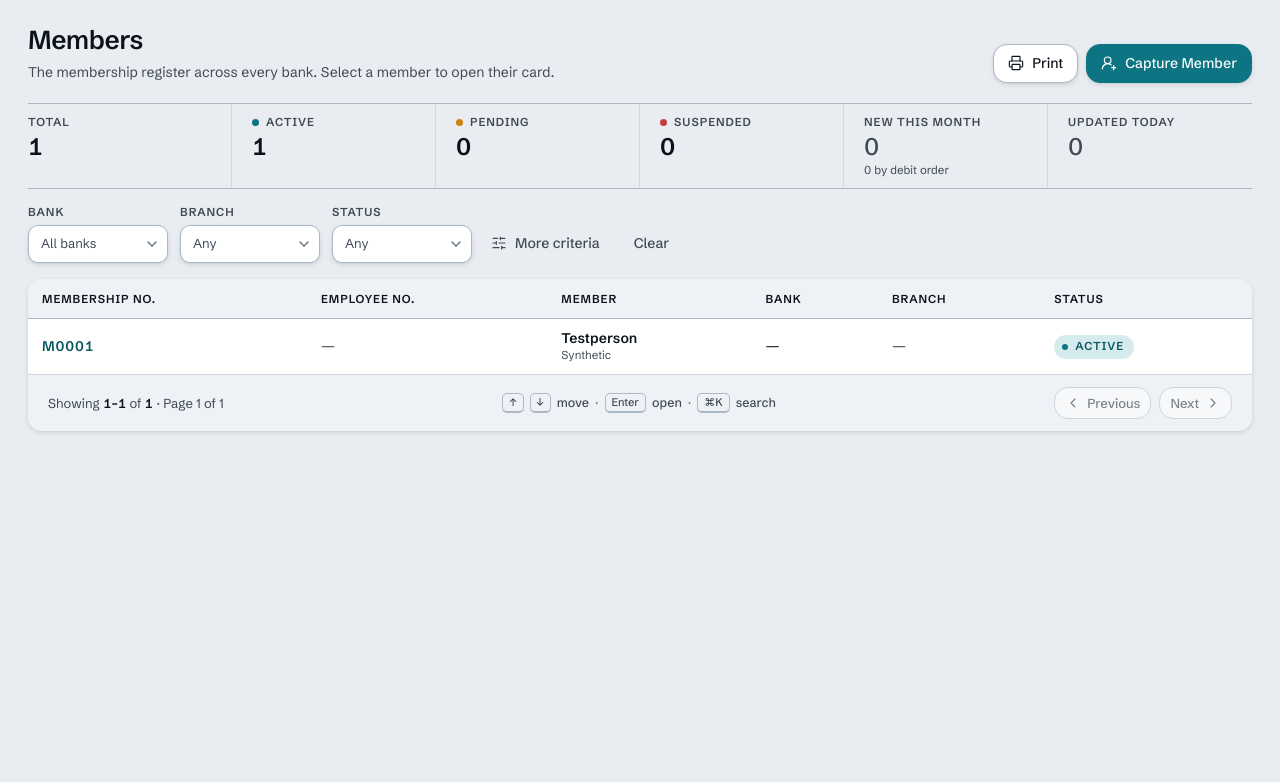
it: reading: one column, and an unanswered question says so › a member saved before V29 reads "Not recorded", not "No" -- nobody was ever asked
The width and height of the screenshot is (1280, 782).
What coordinates should you click on to do the following:
click the button named "open the record for"
I would click on:
 (68, 346)
Its box is top-left (42, 336), bottom-right (94, 357).
(page scrolled)
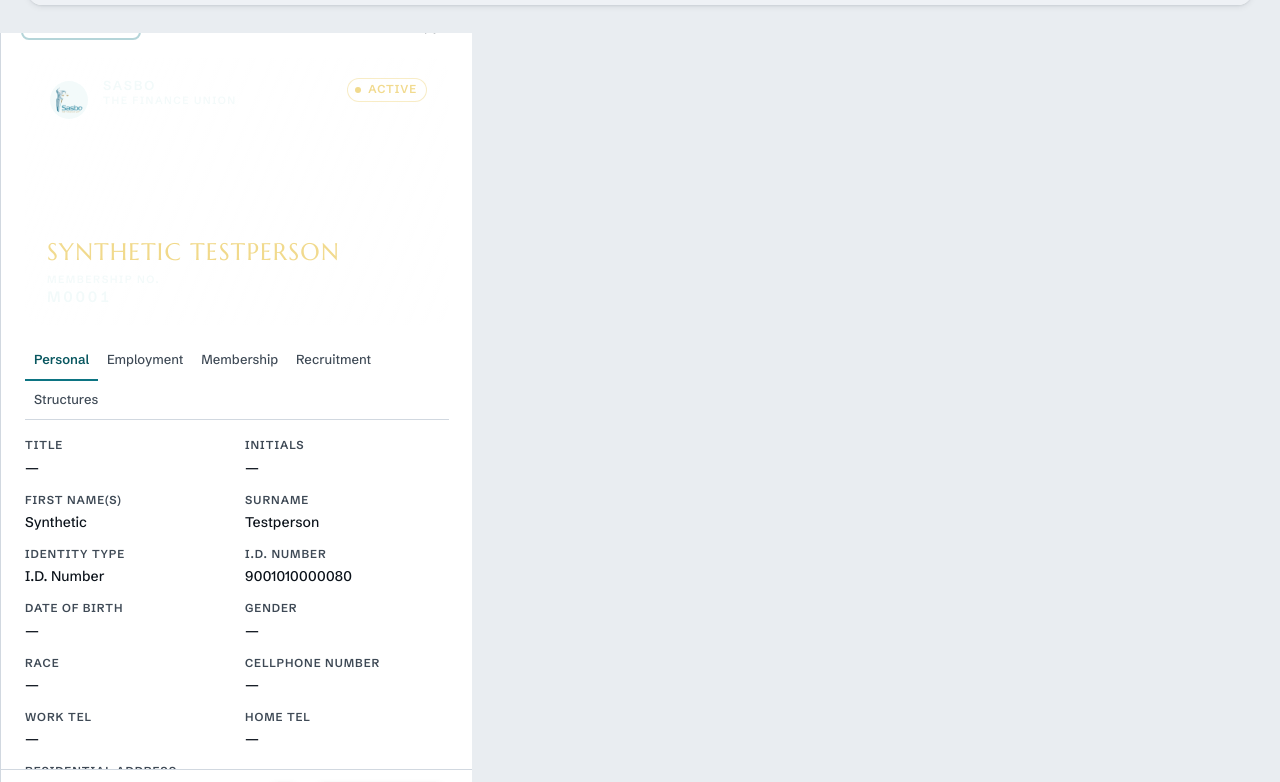
What coordinates should you click on to do the following:
click the button named "Sasbo Structures"
I would click on:
 (66, 401)
Its box is top-left (25, 381), bottom-right (107, 420).
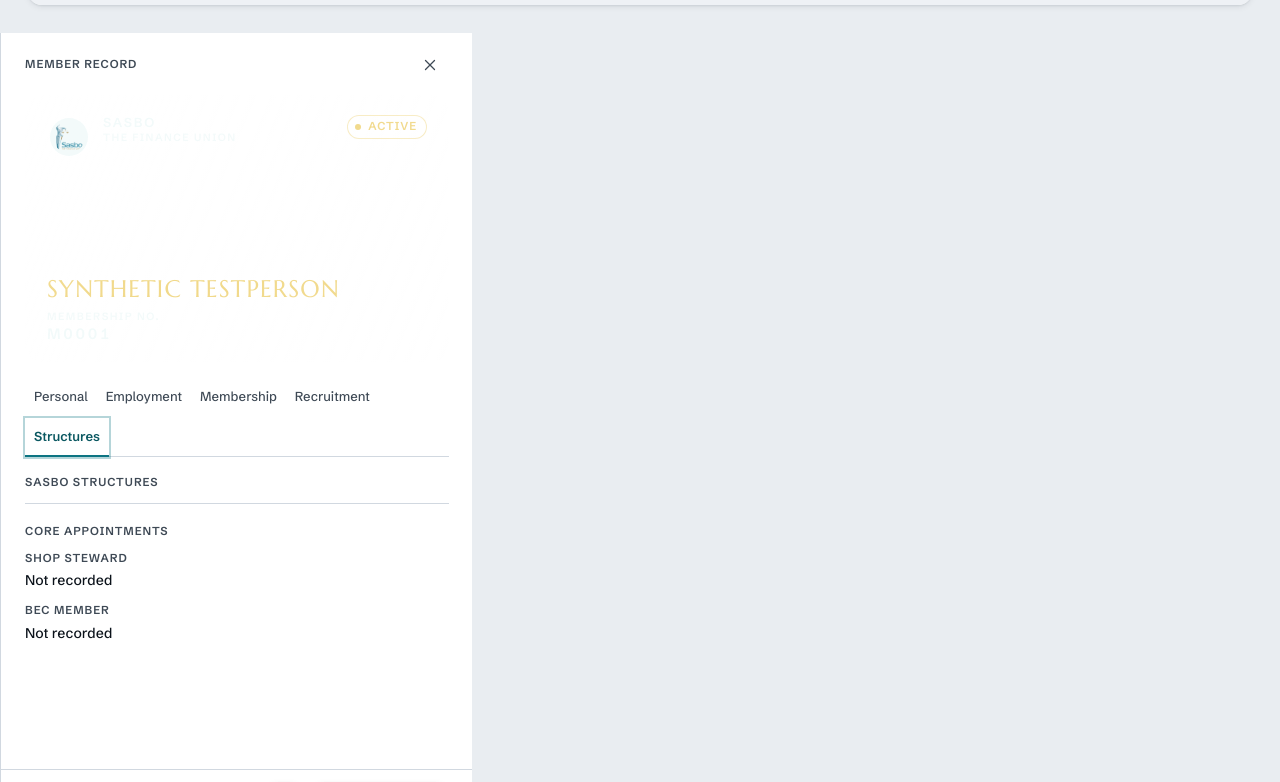
Check: the text "Not recorded" is shown 2 times, box top-left (25, 571), bottom-right (112, 589); top-left (25, 624), bottom-right (112, 642)
